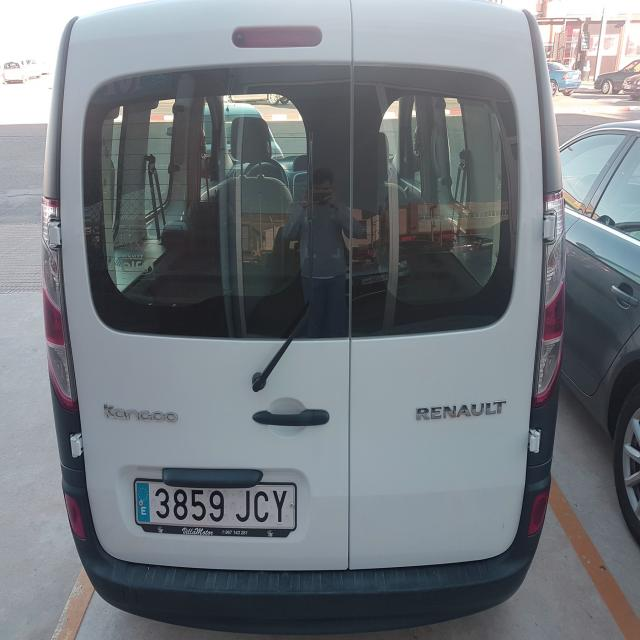football: (134, 481, 296, 529)
